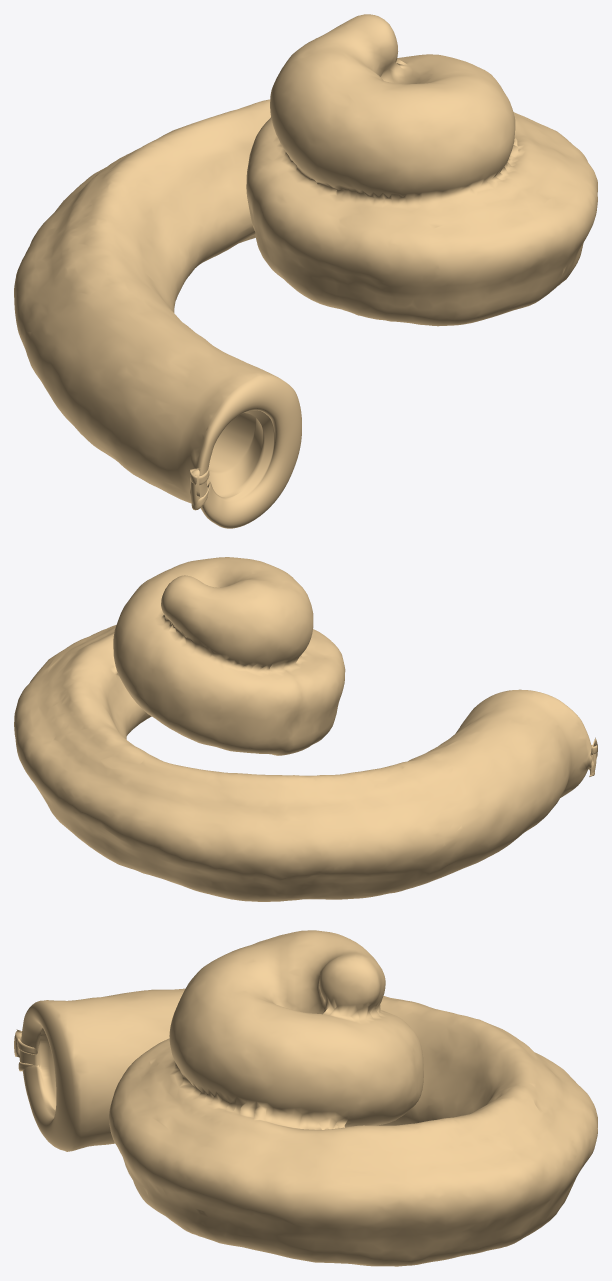
Rendered from zygorhiza_cochlea.glb.
The picture shows the model from 3 angles, top to bottom: view 1: azimuth 30°, elevation 25°; view 2: azimuth 150°, elevation 25°; view 3: azimuth 270°, elevation 25°; orthographic projection. The views are drawn at different scales.
Parts seen in each view (by area): view 1: Zygorhiza_kochii_Cochlea_Hollow; view 2: Zygorhiza_kochii_Cochlea_Hollow; view 3: Zygorhiza_kochii_Cochlea_Hollow.
Boxes of the visible parts, left/top/right/bottom form: Zygorhiza_kochii_Cochlea_Hollow: left=14, top=14, right=597, bottom=528; Zygorhiza_kochii_Cochlea_Hollow: left=14, top=557, right=597, bottom=901; Zygorhiza_kochii_Cochlea_Hollow: left=14, top=930, right=597, bottom=1266.
Size of the model in its own units: 13.45 by 7.68 by 12.81.
